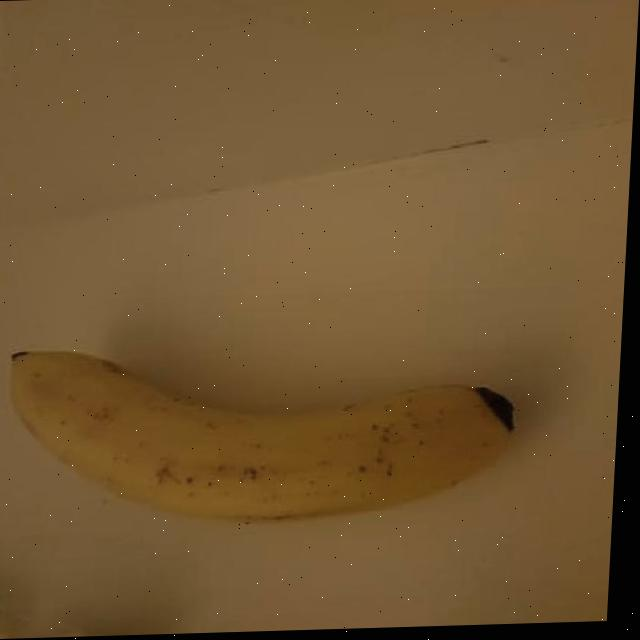banana: (0, 331, 527, 532)
